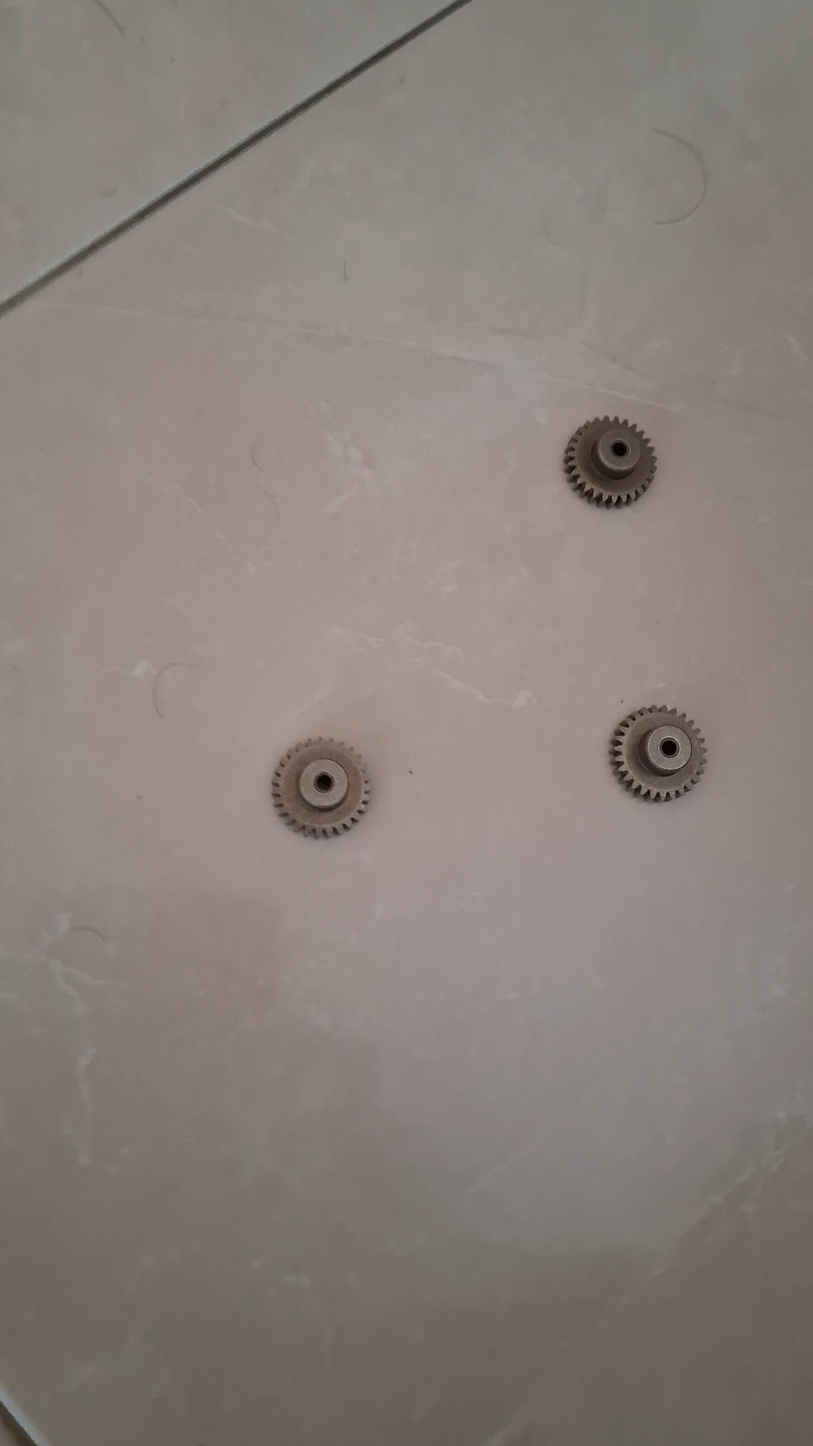spur gear: (271, 738, 370, 837), (611, 706, 706, 801), (564, 416, 656, 507)
